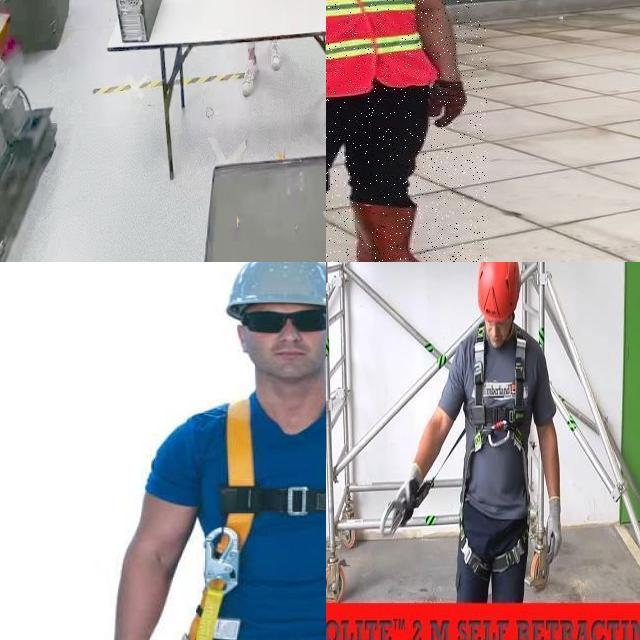Harness: (165, 387, 326, 640), (468, 327, 527, 454)
No_Ear-Protection: (234, 323, 252, 356)
boots: (350, 199, 460, 262)
person: (326, 0, 487, 262)
shoes: (240, 53, 261, 97)
vest: (326, 0, 433, 97)
